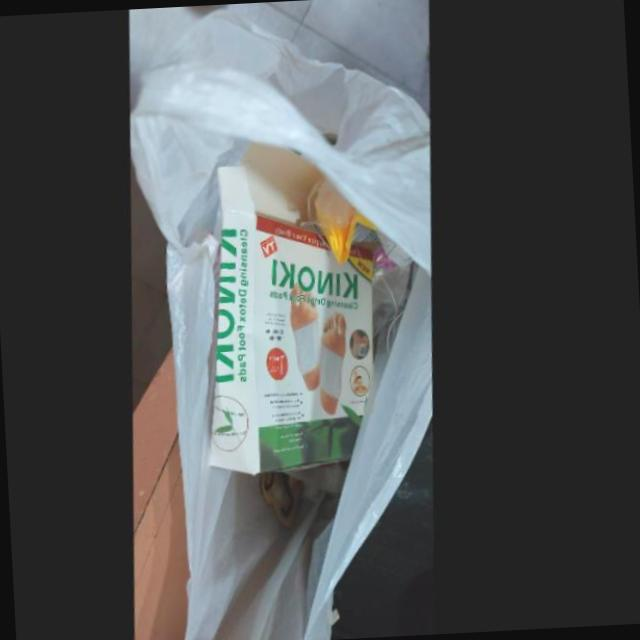carton: (219, 143, 382, 476)
